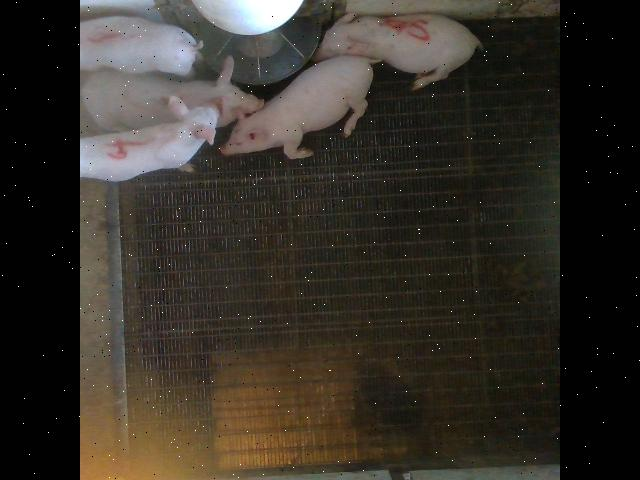pig-1: (81, 16, 202, 74)
pig-3: (82, 58, 264, 130)
pig-4: (81, 96, 218, 180)
pig-5: (314, 11, 482, 89)
